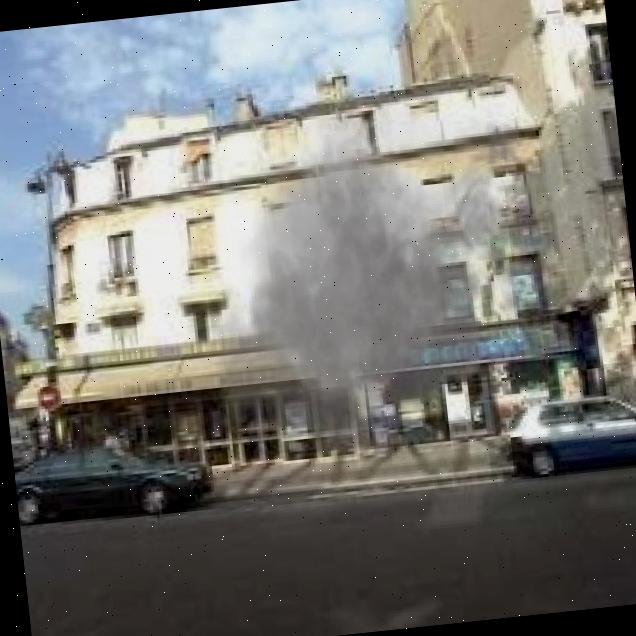smoke: (172, 51, 564, 495)
